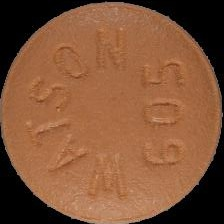50436-4364: (0, 0, 224, 224)
